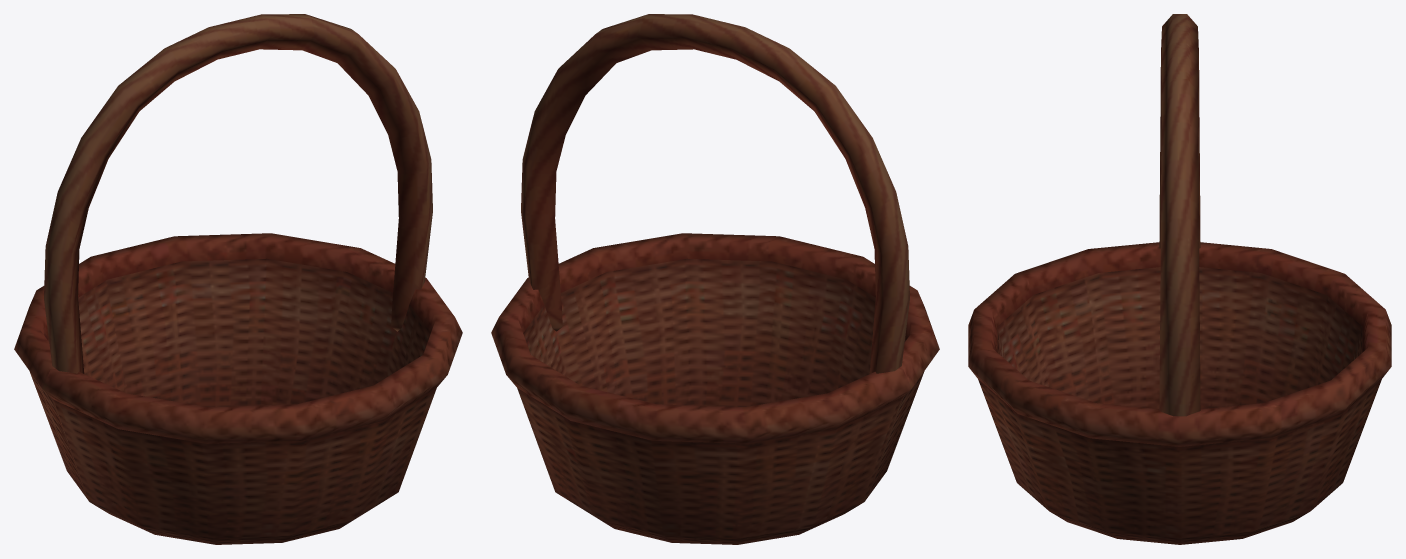
The model's file is Basket_02.fbx.
The picture shows the model from 3 angles, left to right: view 1: azimuth 30°, elevation 25°; view 2: azimuth 150°, elevation 25°; view 3: azimuth 270°, elevation 25°; orthographic projection. The views are drawn at different scales.
Parts seen in each view (by area): view 1: Basket_02_Clone_; view 2: Basket_02_Clone_; view 3: Basket_02_Clone_.
Part boxes in pixels (bbox=[...]): Basket_02_Clone_: bbox=[14, 14, 462, 544]; Basket_02_Clone_: bbox=[491, 14, 939, 544]; Basket_02_Clone_: bbox=[968, 14, 1391, 544].
Bounding box in the file's own units: 520 × 582 × 500.
1 material, 1 textured.
